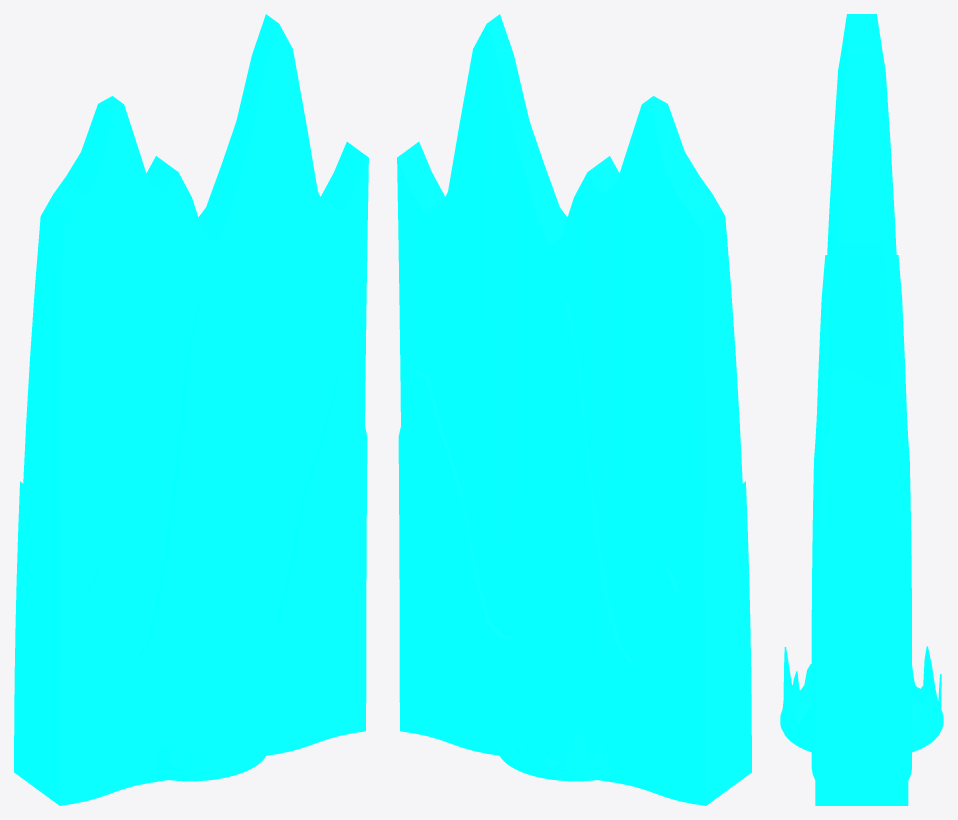
Rendered from FireVFX.fbx.
The picture shows the model from 3 angles, left to right: view 1: azimuth 30°, elevation 25°; view 2: azimuth 150°, elevation 25°; view 3: azimuth 270°, elevation 25°; orthographic projection.
Visible parts, largest first — view 1: Sheet_Energy, Core_Energy, CrownA_Energy, Ring_Energy; view 2: Sheet_Energy, Core_Energy, CrownA_Energy, Ring_Energy; view 3: Sheet_Energy, Core_Energy, CrownA_Energy, CrownB_Energy, Ring_Energy, Pool_Energy.
Part boxes in pixels (box(x1,y1,x2,y2)): Sheet_Energy: box(17, 14, 368, 734); Core_Energy: box(14, 301, 367, 805); CrownA_Energy: box(157, 709, 267, 781); Ring_Energy: box(154, 743, 269, 778); Sheet_Energy: box(397, 14, 748, 734); Core_Energy: box(398, 301, 751, 805); CrownA_Energy: box(498, 706, 608, 781); Ring_Energy: box(496, 743, 611, 778); Sheet_Energy: box(821, 14, 902, 805); Core_Energy: box(811, 255, 911, 805); CrownA_Energy: box(782, 646, 941, 752); CrownB_Energy: box(787, 666, 936, 736); Ring_Energy: box(780, 696, 943, 749); Pool_Energy: box(790, 699, 923, 731).
Bounding box in the file's own units: 4.61 × 10.19 × 2.
